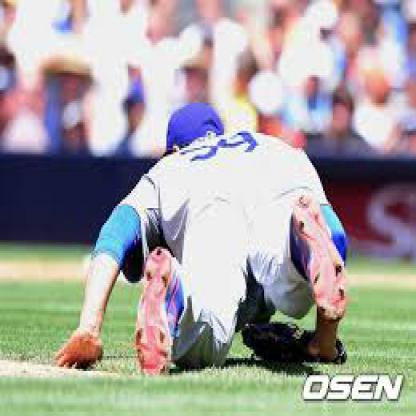Fall_Down: (57, 100, 352, 380)
